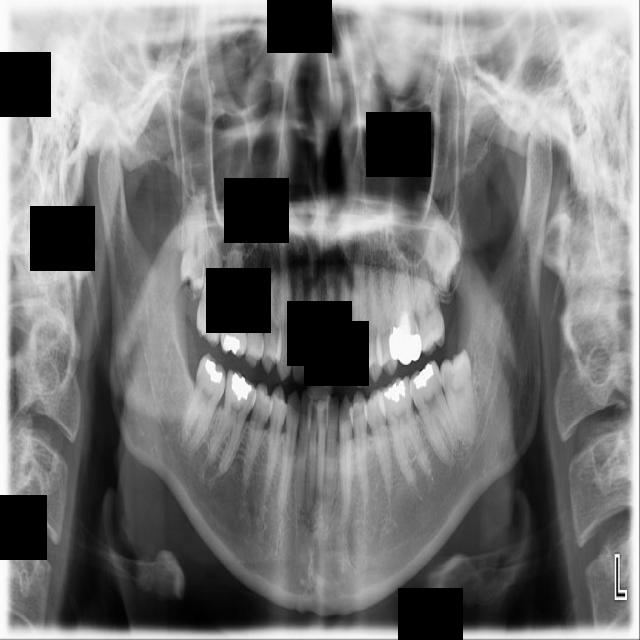3M ESPE Implant: (179, 194, 207, 293)
52: (369, 371, 424, 425), (188, 349, 239, 404), (400, 358, 453, 409), (381, 325, 428, 371), (222, 368, 259, 416), (218, 313, 249, 358)
73: (588, 574, 593, 588)
BioHorizons Implant: (406, 231, 448, 358)
BioLife Implant: (406, 187, 471, 295)
Biomet 3i Implant: (436, 347, 481, 444)
Blue Sky Bio Implant: (402, 359, 465, 468)
Caries: (195, 219, 227, 348)
Implant: (176, 350, 233, 457)
